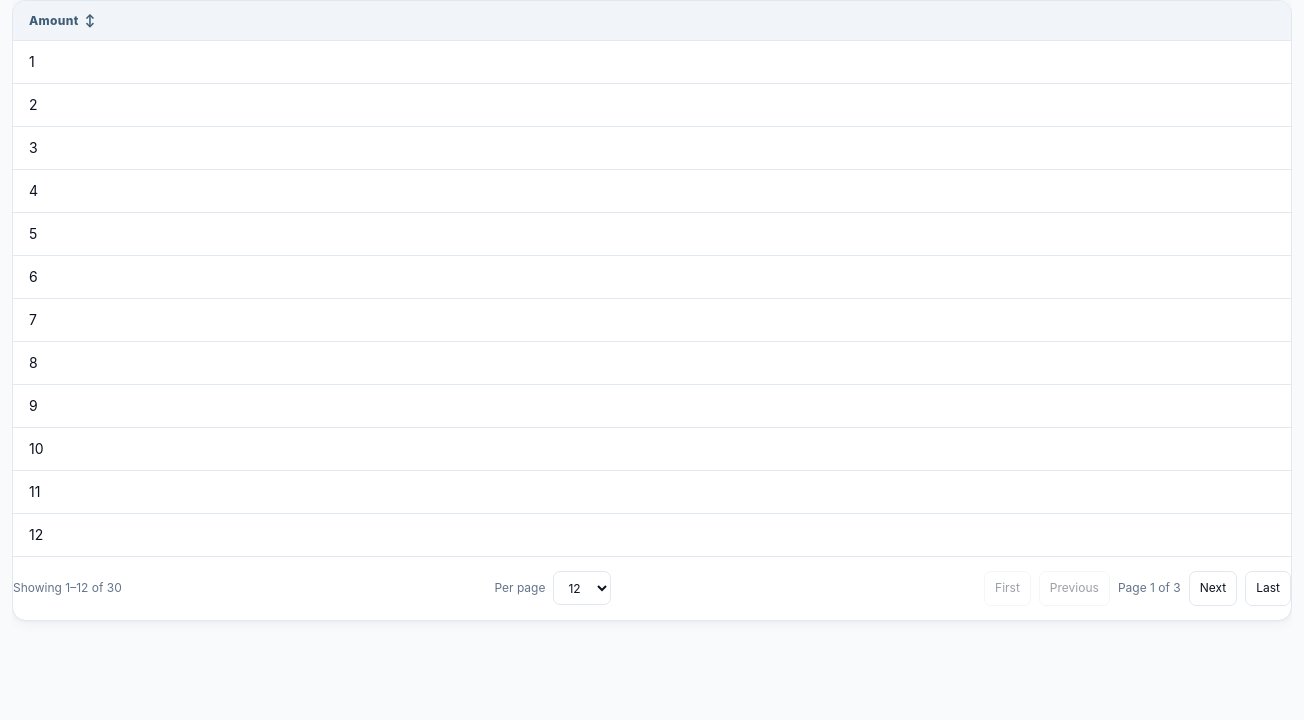
Test: Pagination › sorts the entire table before selecting the page
The width and height of the screenshot is (1304, 720).
Click the button "Next".
click(1213, 588)  # box left=1189, top=571, right=1237, bottom=606
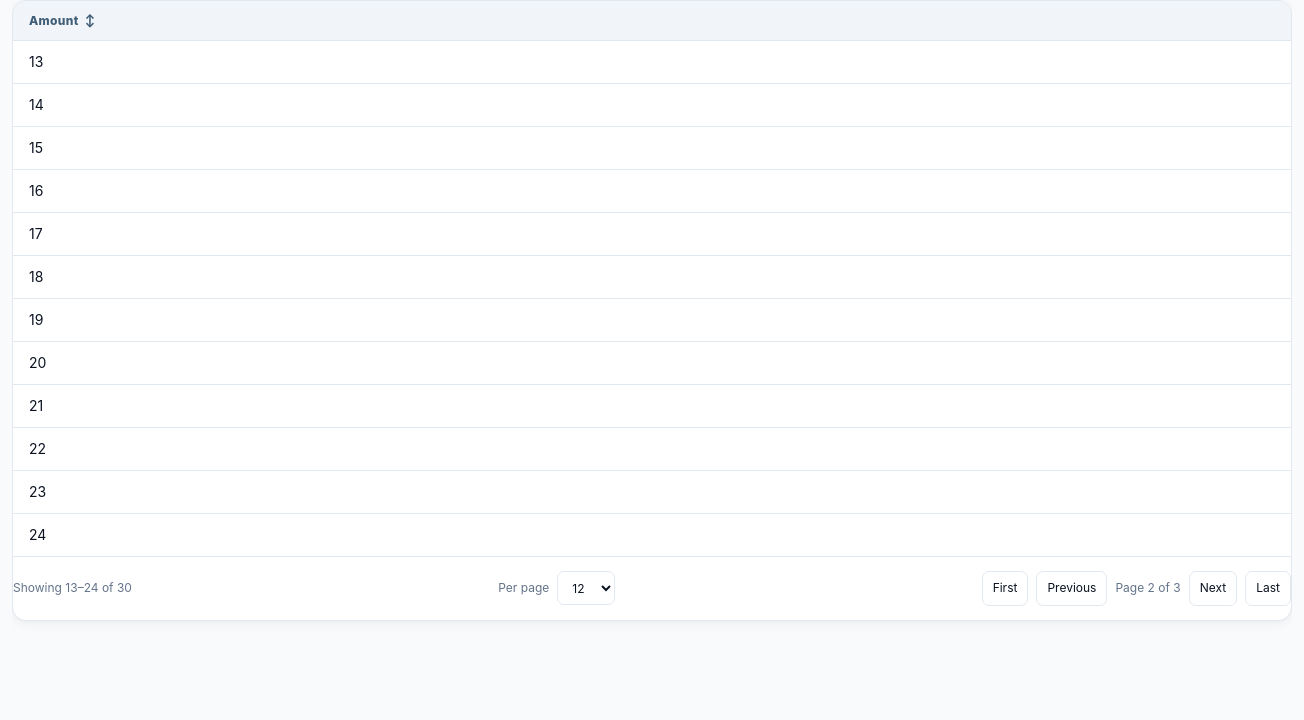
Click the button "Amount ↕".
click(54, 20)  # box left=29, top=12, right=1275, bottom=29
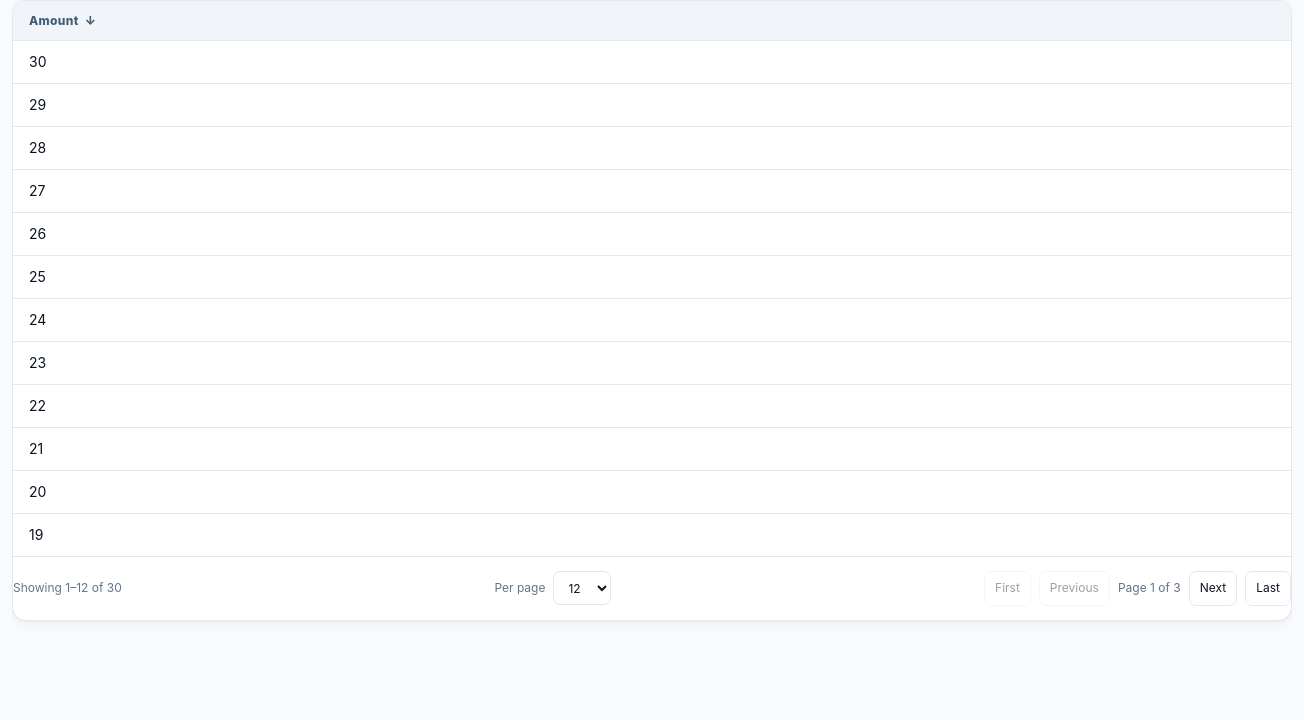
Expected: the cell "30" is shown, left=13, top=41, right=1291, bottom=84
Expected: the button "Previous" is disabled, left=1039, top=571, right=1110, bottom=606
